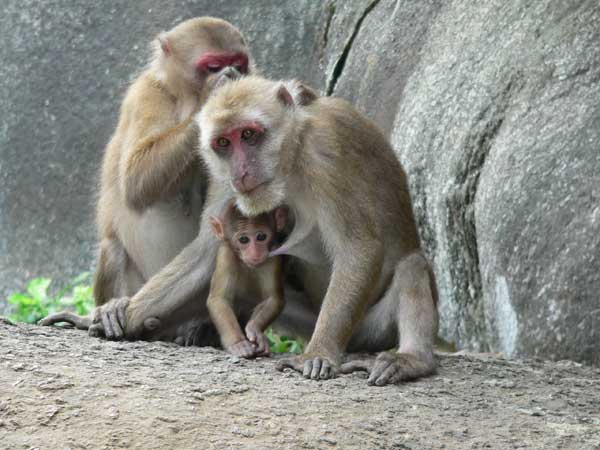monkey: (200, 70, 474, 404), (32, 12, 255, 349), (201, 191, 303, 361)
